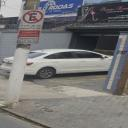NoEstacionar: (22, 9, 44, 26)
